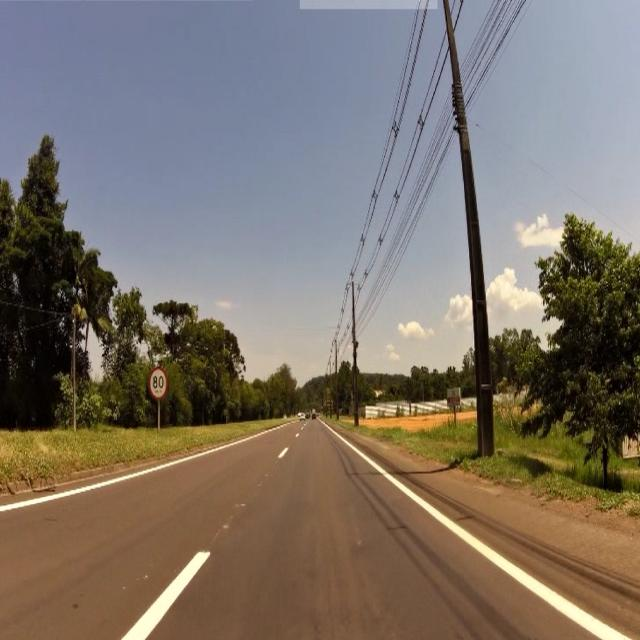R-19: (150, 370, 166, 402)
